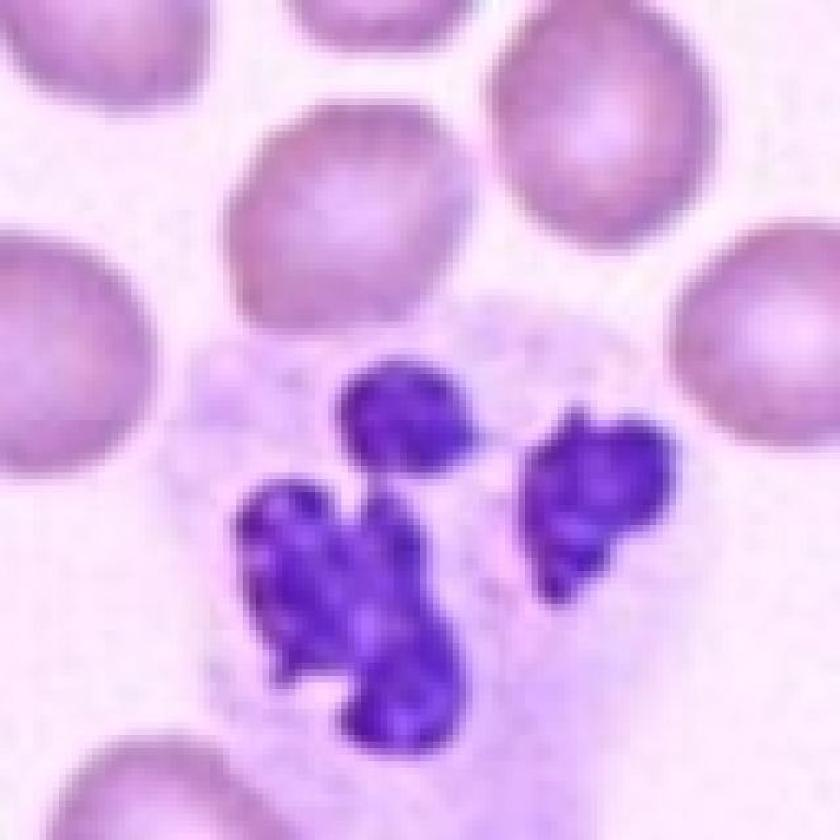neutrophil: (156, 300, 705, 840)
